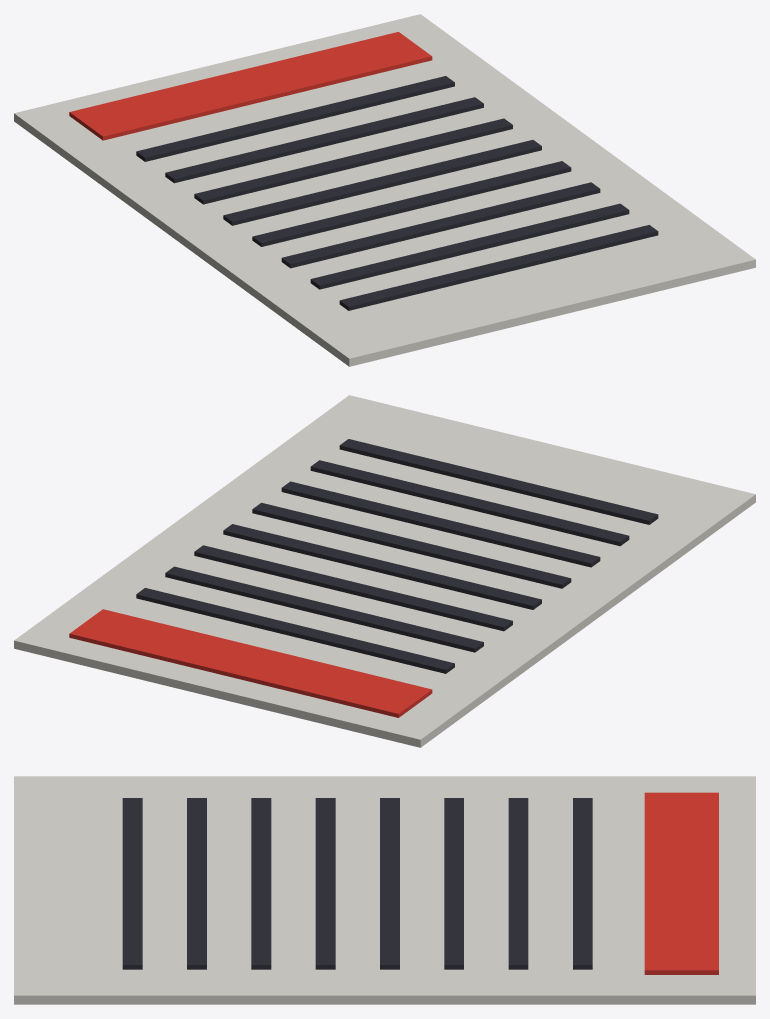
File: rental_list.glb
3 views of the same model, one above another, from view 1: azimuth 30°, elevation 25°; view 2: azimuth 150°, elevation 25°; view 3: azimuth 270°, elevation 25° (orthographic). The views are drawn at different scales.
Parts seen in each view (by area): view 1: sheet_paper_white, rows_ink (×8), header_rental_red; view 2: sheet_paper_white, rows_ink (×8), header_rental_red; view 3: sheet_paper_white, rows_ink (×8), header_rental_red.
Boxes of the visible parts, left/top/right/bottom form: sheet_paper_white: left=14, top=14, right=755, bottom=366; rows_ink (×8): left=136, top=76, right=658, bottom=310; header_rental_red: left=69, top=32, right=432, bottom=140; sheet_paper_white: left=14, top=395, right=755, bottom=747; rows_ink (×8): left=136, top=439, right=658, bottom=673; header_rental_red: left=69, top=609, right=432, bottom=717; sheet_paper_white: left=14, top=776, right=755, bottom=1004; rows_ink (×8): left=122, top=798, right=592, bottom=969; header_rental_red: left=644, top=792, right=718, bottom=974.
Bounding box in the file's own units: 0.21 × 0.006 × 0.3.
